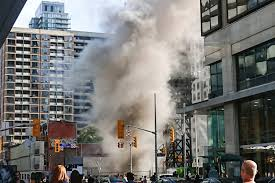smoke: (73, 2, 201, 168)
